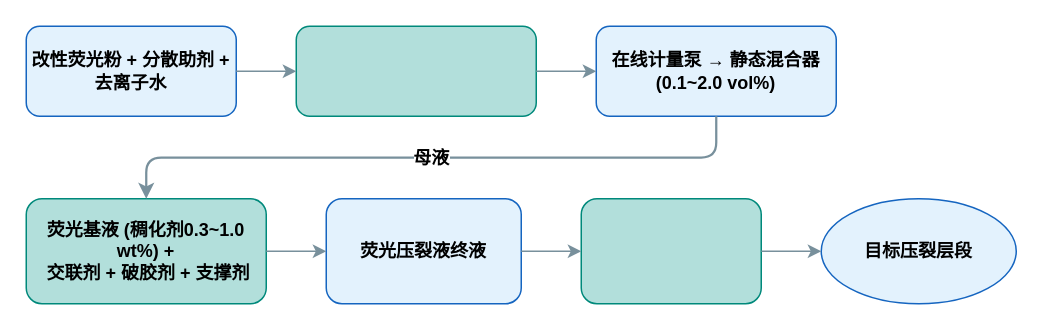
The diagram is 1043 pixels wide and 330 high, and some of its shapes have lost their labels. Each missing label, with the centre of its shape:
压裂泵车 → 井口: the point at 670,250
高速剪切/超声分散 → 荧光母液 (30~60 g/L): the point at 415,70
